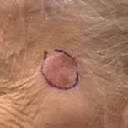Carcinoma: (42, 54, 82, 86)
